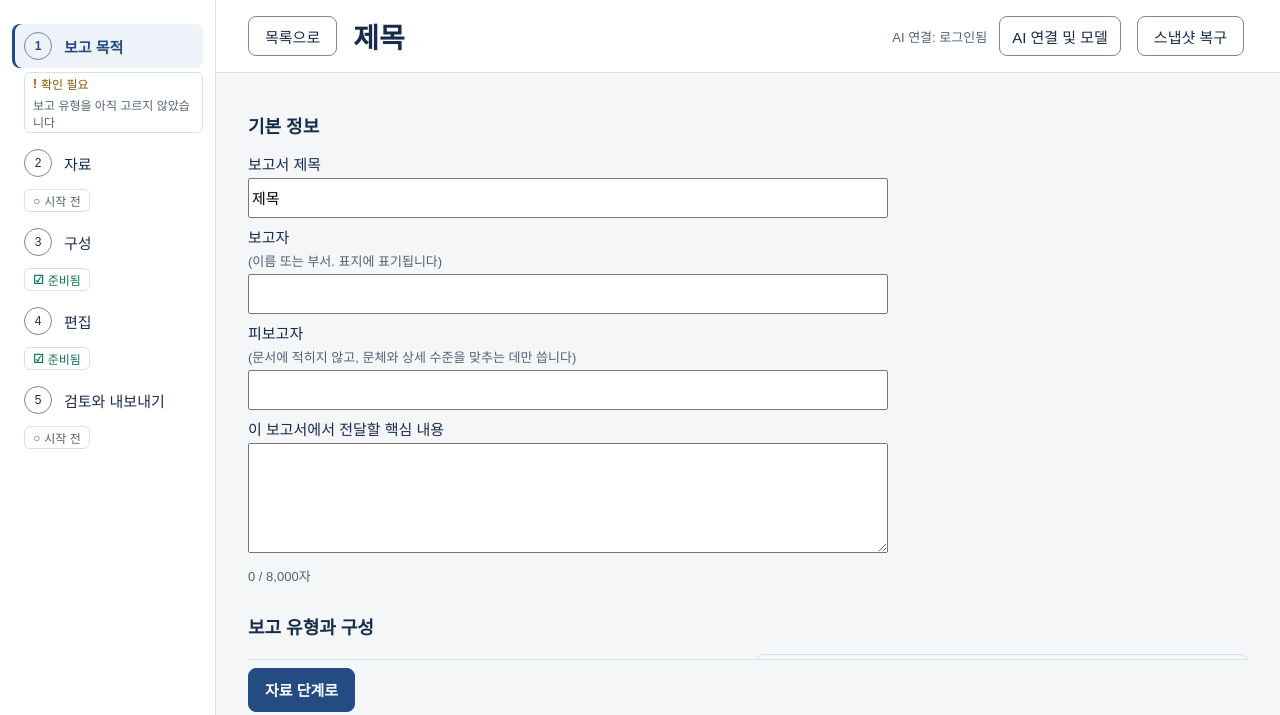
Test: 첫 구조안 생성 클릭에 대화 상자가 뜨고, 취소하면 요청이 나가지 않고 알림이 아닌 안내가 뜬다
Click the button "3 구성" at [108, 242], box [12,220,203,264]
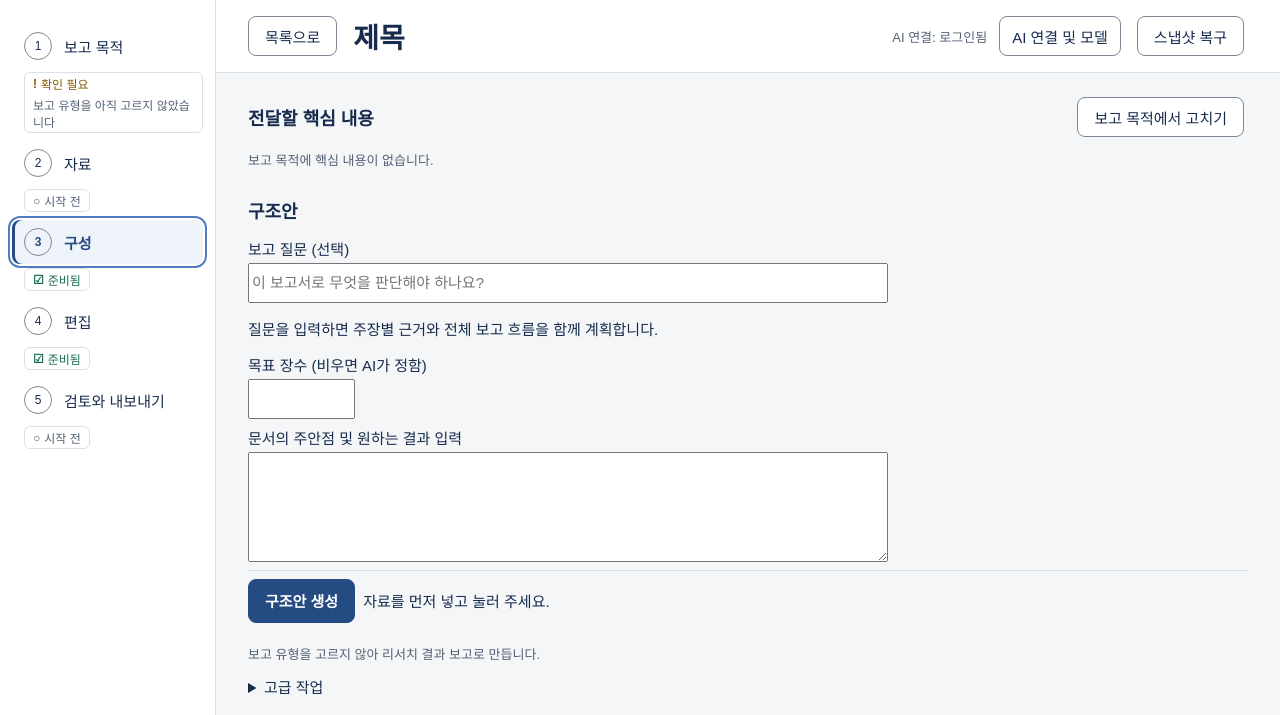
Check: the button "구조안 생성" is shown
Click the button "구조안 생성" at [302, 601], box [248,579,355,623]
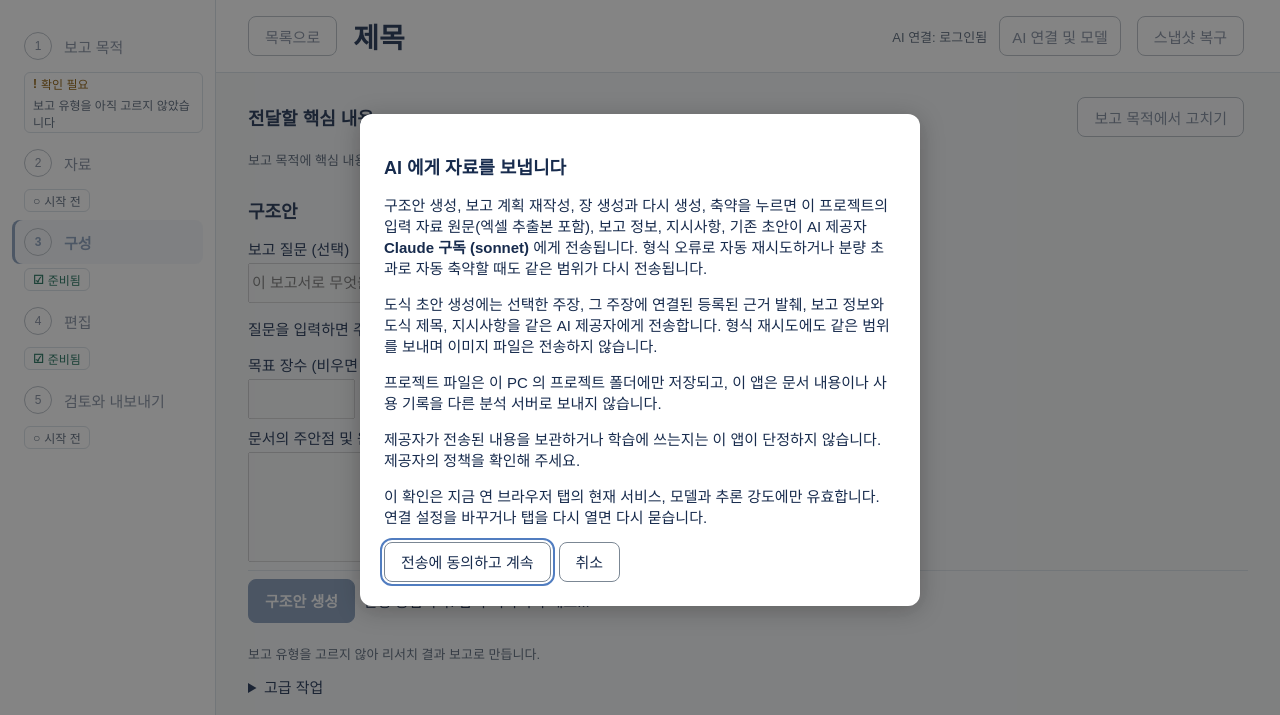
Check: the dialog is shown, box [360,114,920,606]
Check: the button "2 자료" is disabled, box [12,141,203,185]
Check: the button "3 구성" is disabled, box [12,220,203,264]
Click the button "취소" at [589, 562], box [558,542,620,582]
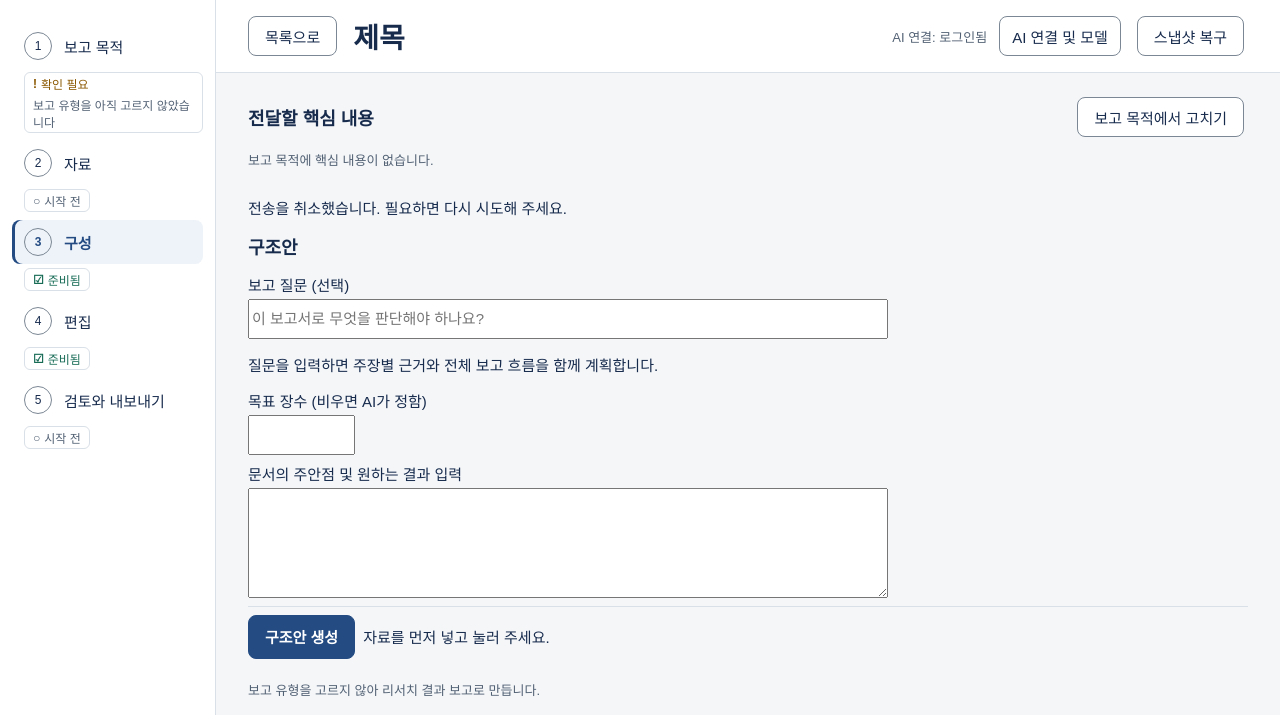
Check: the dialog is gone
Check: the button "2 자료" is enabled, box [12,141,203,185]
